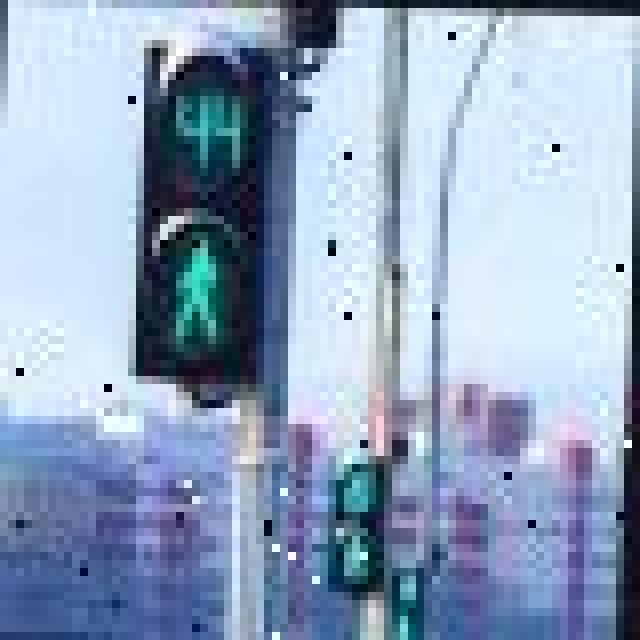greenlight: (128, 32, 280, 368), (331, 453, 393, 598)
